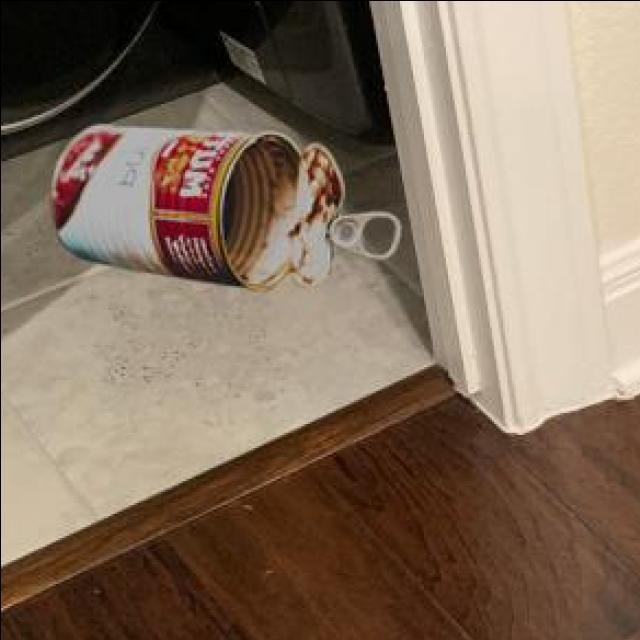logam: (54, 119, 402, 286)
